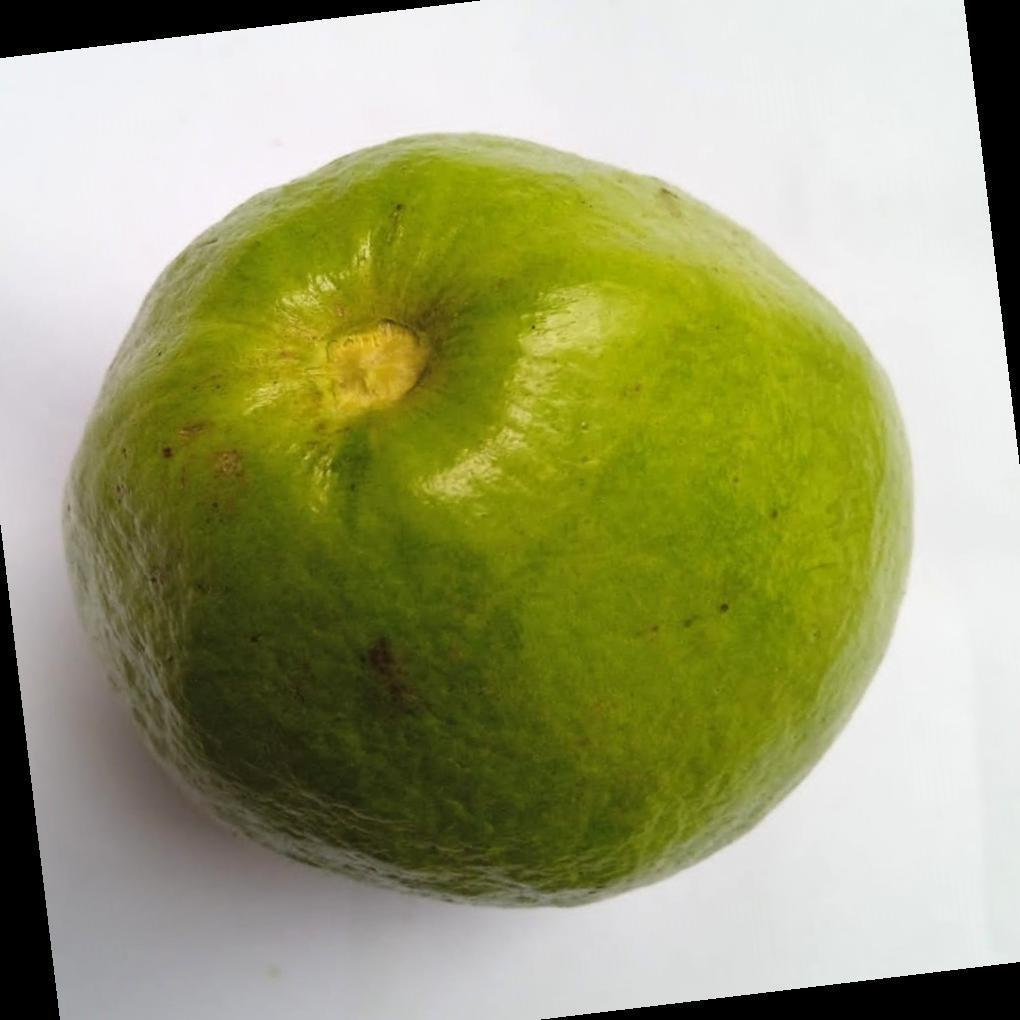FreshGuava: (59, 133, 917, 913)
